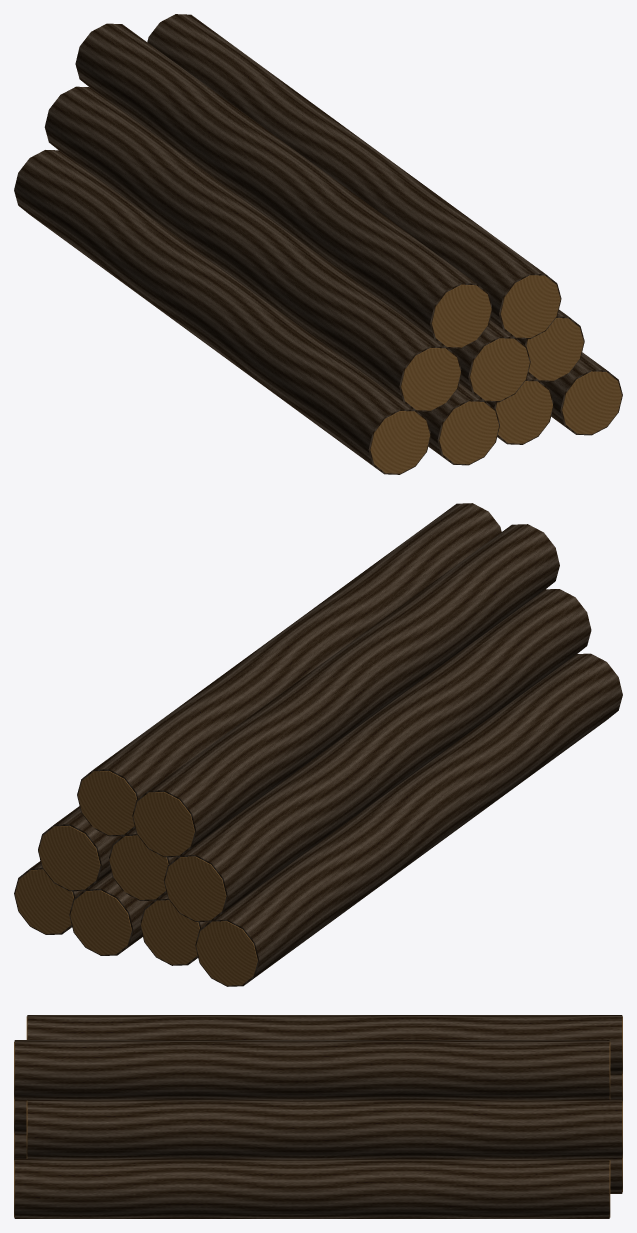
Rendered from forest_logs.glb.
3 renders of one model, top to bottom at view 1: azimuth 30°, elevation 25°; view 2: azimuth 150°, elevation 25°; view 3: azimuth 270°, elevation 25°, orthographic. The views are drawn at different scales.
Visible parts, largest first — view 1: forest_logs; view 2: forest_logs; view 3: forest_logs.
Boxes of the visible parts, x1,y1,x2,y2 form: forest_logs: (14,14,622,474); forest_logs: (14,503,622,986); forest_logs: (14,1015,622,1218).
Bounding box in the file's own units: 2.09 × 1.43 × 5.32.
Materials: 2 (2 with a texture image).
